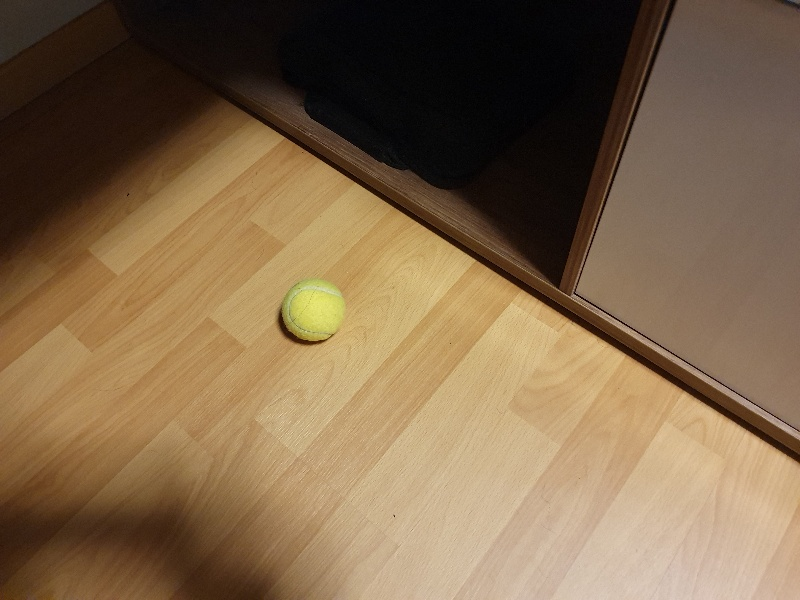Tennisball: (274, 272, 352, 351)
